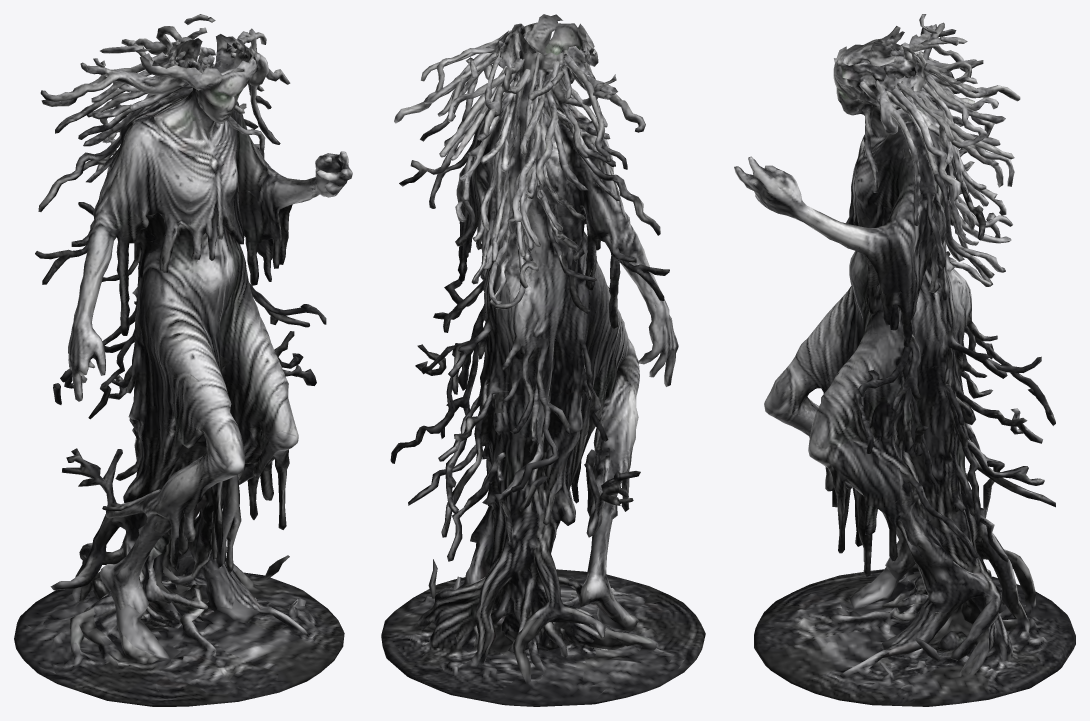
Rendered from Watt_RungholtGeist.glb.
3 renders of one model, left to right at view 1: azimuth 30°, elevation 25°; view 2: azimuth 150°, elevation 25°; view 3: azimuth 270°, elevation 25°, orthographic.
Bounding box in the file's own units: 0.8885 × 1.8 × 0.9393.
Materials: 1 (1 with a texture image).
